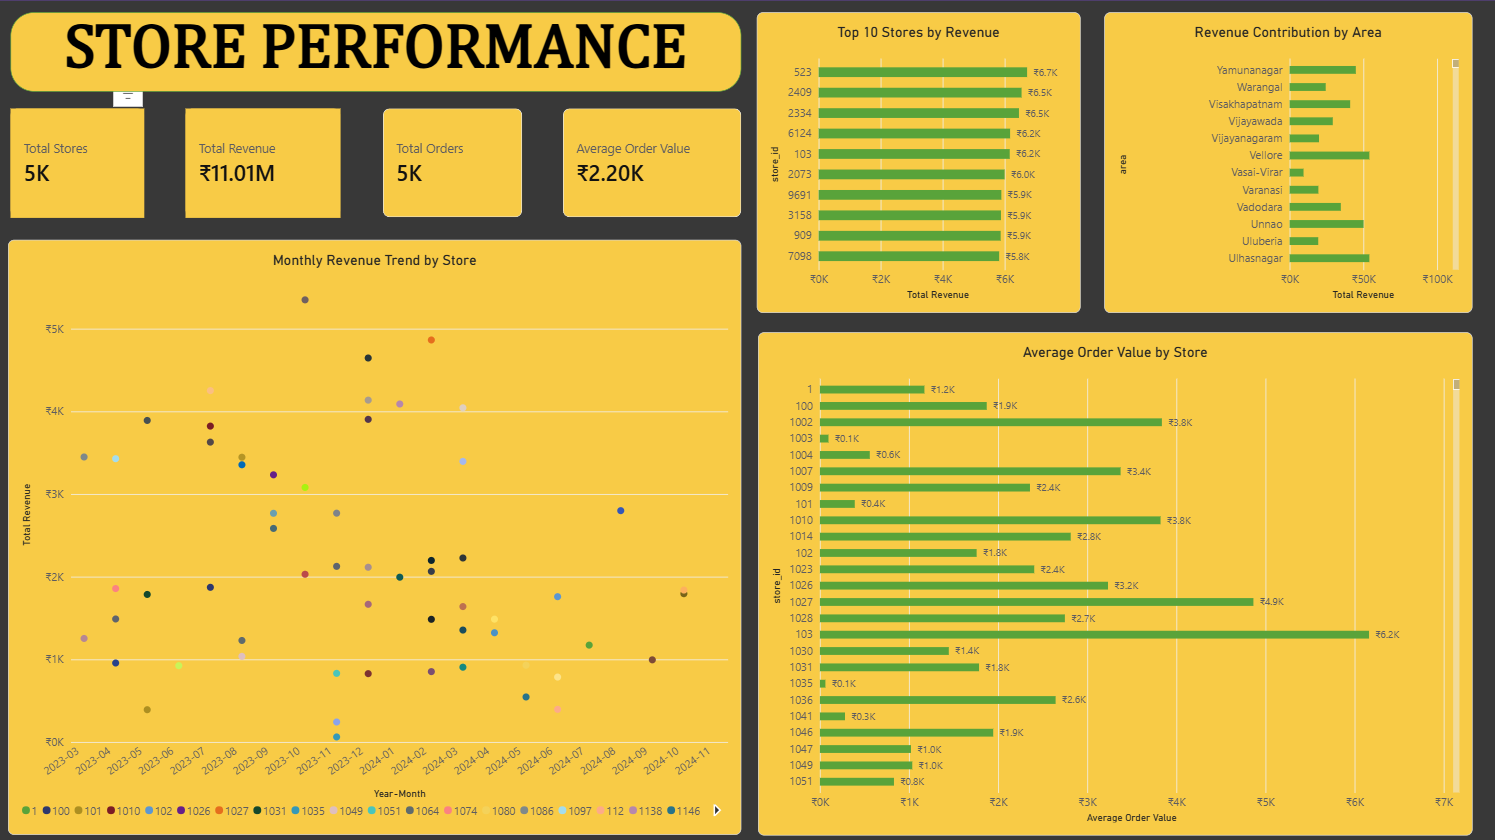

The page's visual inventory and layout, read from the dashboard file:
{"tool":"powerbi","page":{"name":"STORE PERFORMANCE","canvas":[1920,1080],"ordinal":4},"visuals":[{"type":"cardVisual","fields":{"Data":["blinkit_orders.Total Stores"]},"box":[16.6,138,171.2,139.9],"z":0},{"type":"cardVisual","fields":{"Data":["blinkit_orders.Average Order Value"]},"box":[723.3,138,228,139.5],"z":1000},{"type":"cardVisual","fields":{"Data":["blinkit_orders.Total Orders"]},"box":[492,138,178.5,139.9],"z":2000},{"type":"cardVisual","fields":{"Data":["blinkit_orders.Total Revenue"]},"box":[240.5,138,198.8,139.9],"z":3000},{"type":"lineChart","title":"Monthly Revenue Trend by Store","fields":{"Category":["DateTable.Year-Month"],"Series":["blinkit_orders.store_id"],"Y":["blinkit_orders.Total Revenue"]},"box":[12.9,305.5,938.7,762],"z":4000},{"type":"clusteredBarChart","title":"Top 10 Stores by Revenue","fields":{"Category":["blinkit_orders.store_id"],"Y":["blinkit_orders.Total Revenue"]},"box":[971.7,15,414.1,384.7],"z":5000},{"type":"clusteredBarChart","title":"Revenue Contribution by Area","fields":{"Category":["blinkit_customers.area"],"Y":["blinkit_orders.Total Revenue"]},"box":[1415.3,14.7,471.2,384.7],"z":6000},{"type":"clusteredBarChart","title":"Average Order Value by Store","fields":{"Category":["blinkit_orders.store_id"],"Y":["blinkit_orders.Average Order Value"]},"box":[971.8,423.3,914.7,644.2],"z":7000},{"type":"textbox","box":[16.6,14.7,935,101.2],"z":8000}]}

Visuals, with their boxes in screenshot pixels (x1, y1, x2, y2), scaled from the page's 1920x1080 canvas onto the 1495x840 screenshot:
cardVisual - blinkit_orders.Total Stores: Rect(13, 107, 146, 216)
cardVisual - blinkit_orders.Average Order Value: Rect(563, 107, 741, 216)
cardVisual - blinkit_orders.Total Orders: Rect(383, 107, 522, 216)
cardVisual - blinkit_orders.Total Revenue: Rect(187, 107, 342, 216)
"Monthly Revenue Trend by Store" lineChart: Rect(10, 238, 741, 830)
"Top 10 Stores by Revenue" clusteredBarChart: Rect(757, 12, 1079, 311)
"Revenue Contribution by Area" clusteredBarChart: Rect(1102, 11, 1469, 311)
"Average Order Value by Store" clusteredBarChart: Rect(757, 329, 1469, 830)
textbox: Rect(13, 11, 741, 90)
